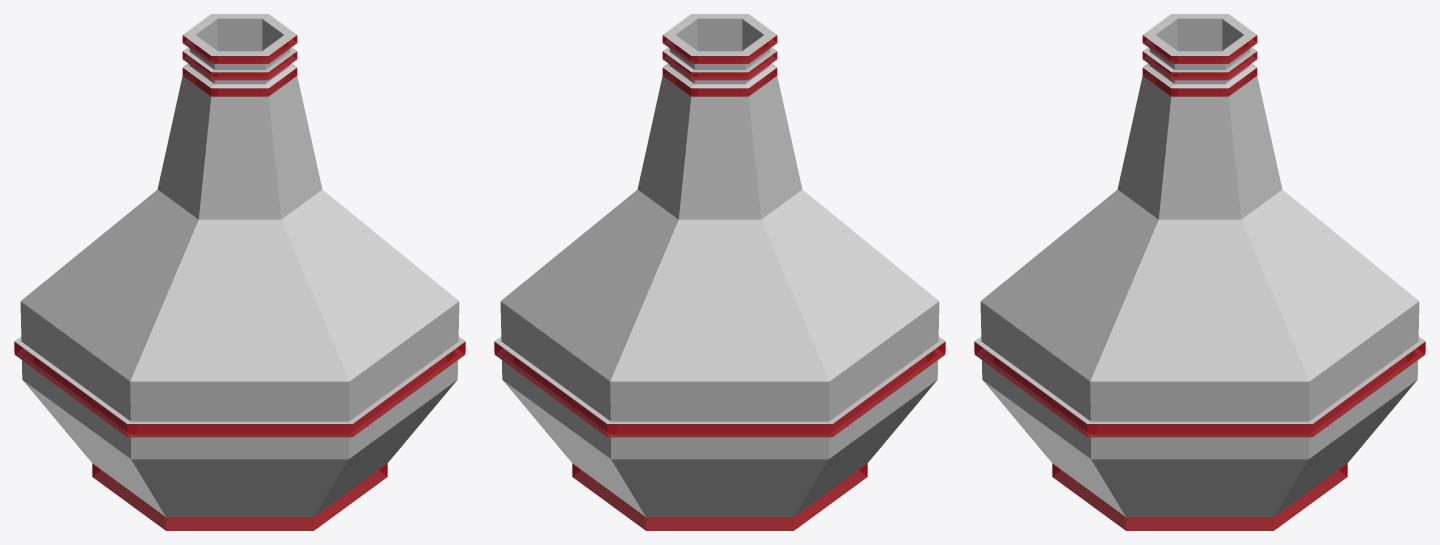
File: potion_red.fbx
The picture shows the model from 3 angles, left to right: view 1: azimuth 30°, elevation 25°; view 2: azimuth 150°, elevation 25°; view 3: azimuth 270°, elevation 25°; orthographic projection.
Visible parts, largest first — view 1: Red Potion.001; view 2: Red Potion.001; view 3: Red Potion.001.
Part boxes in pixels (<box>): Red Potion.001: <box>14,14,465,530</box>; Red Potion.001: <box>494,14,945,530</box>; Red Potion.001: <box>974,14,1425,530</box>.
Size of the model in its own units: 9.44 by 11.78 by 10.9.
